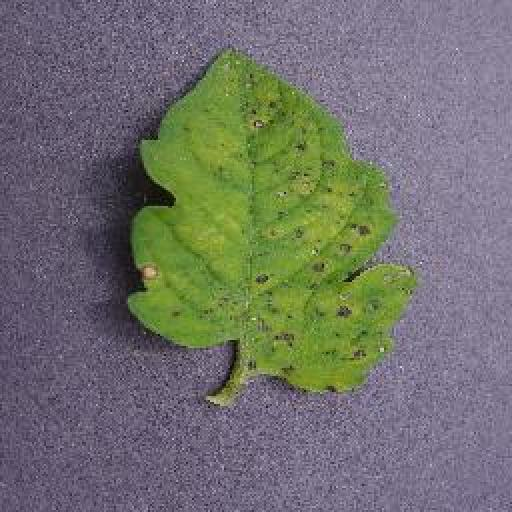Septoria: (127, 42, 415, 394)
